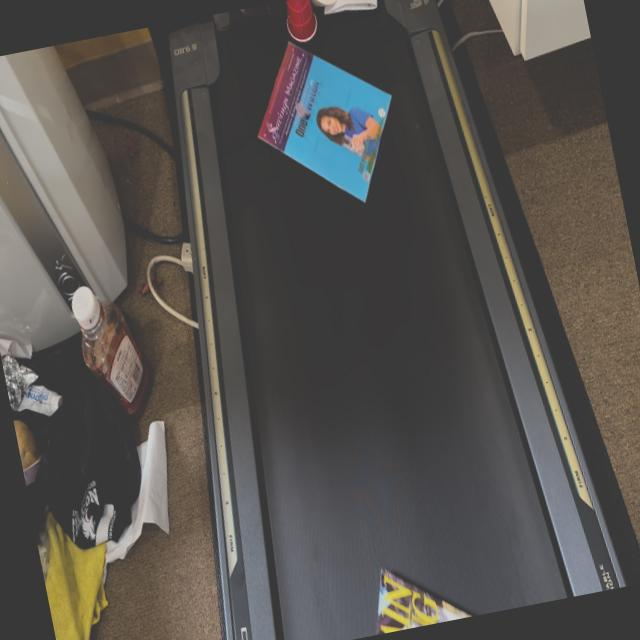Recycle: (245, 24, 412, 220), (348, 548, 485, 638), (282, 0, 320, 45)
